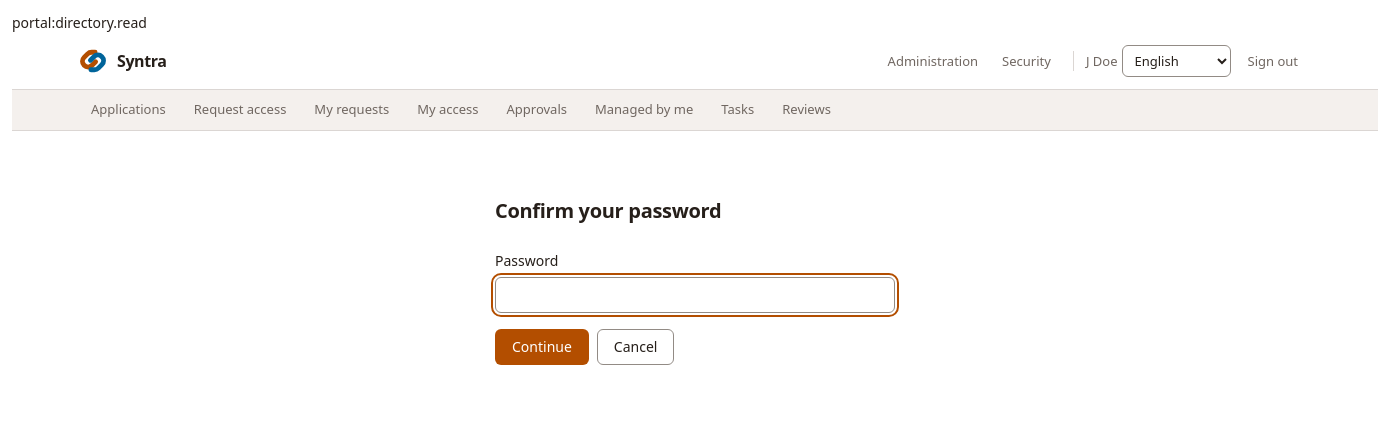
Test case: Elevate › reports a wrong password without disturbing the session
Expected: the text "portal:directory.read" is shown, x1=12 y1=13 x2=147 y2=32
Type "secret" into the password field labelled "Password" at (695,295), box x1=495 y1=277 x2=895 y2=313
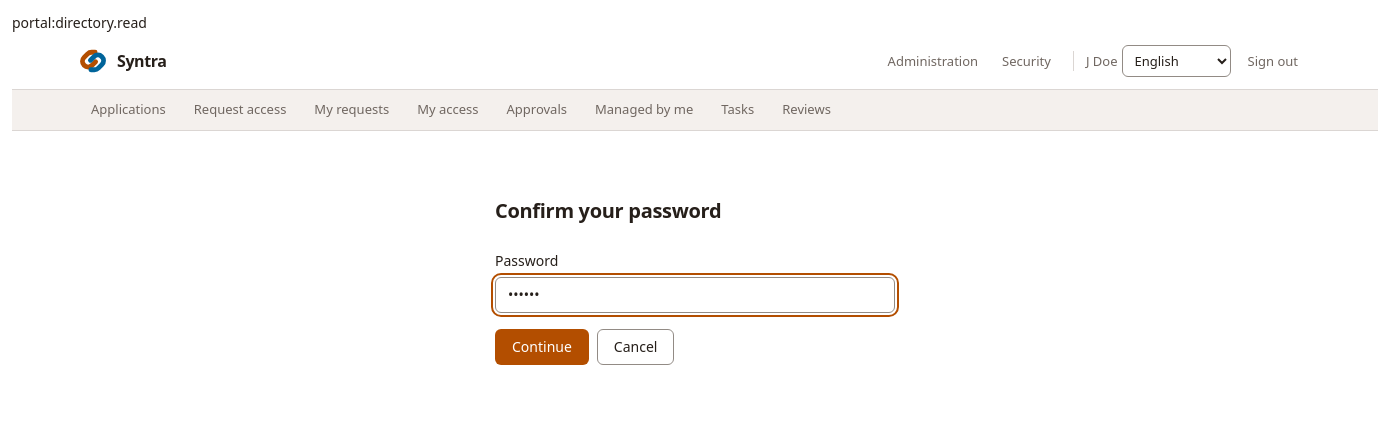
Click the button "Continue" at (542,347), box x1=495 y1=329 x2=589 y2=365
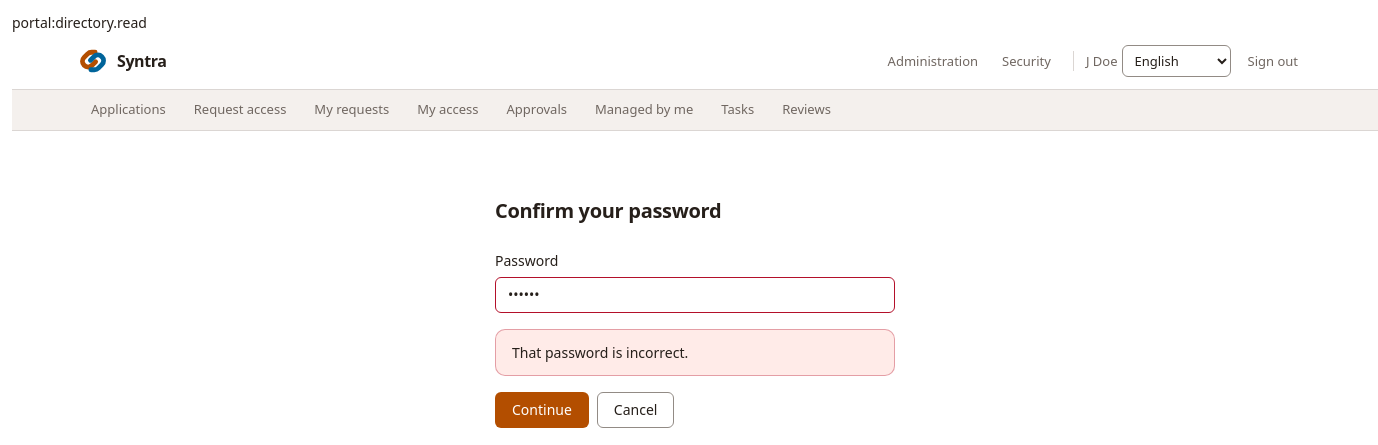
Expected: the text with test id "probe" reads "portal:directory.read", x1=12 y1=13 x2=147 y2=32
Now the message shows "password is incorrect", box x1=512 y1=343 x2=688 y2=362
